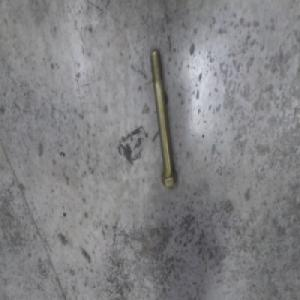Bolt: (145, 46, 177, 182)
